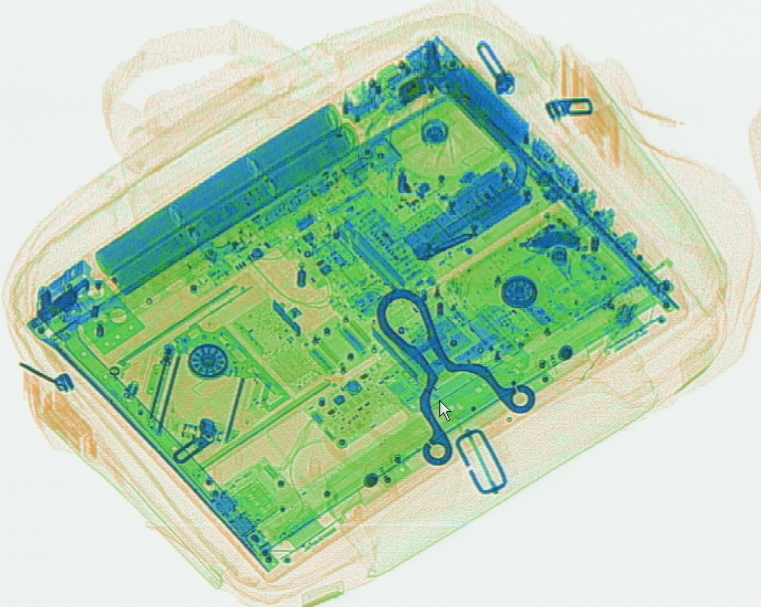slingshot: (376, 286, 537, 465)
